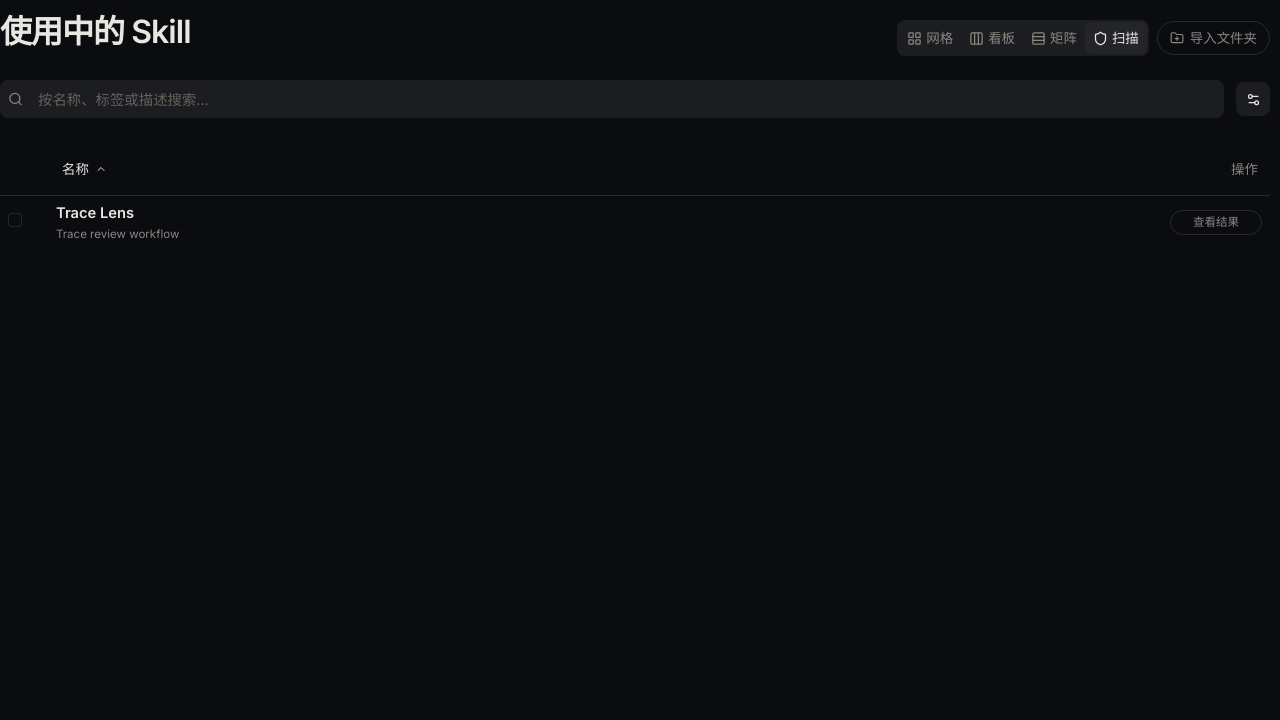
SkillsInUsePage › localizes the scan result modal chrome and report labels
The image size is (1280, 720).
Click the button with aria-label "查看 Trace Lens 的扫描结果" at (1216, 222), box top-left (1170, 210), bottom-right (1262, 235)
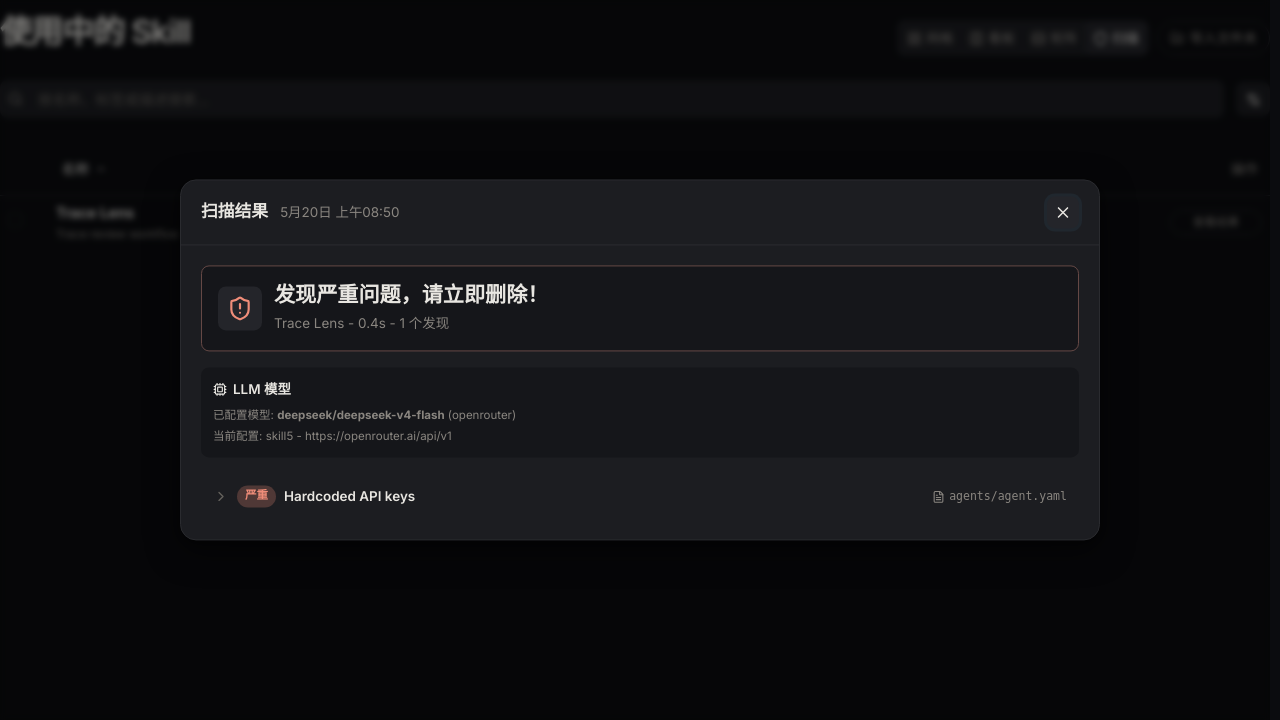
expect the element named "安全报告" is shown: met, box top-left (181, 245), bottom-right (1099, 540)
expect the heading "发现严重问题，请立即删除！" is shown: met, box top-left (274, 282), bottom-right (548, 308)
expect the text "Trace Lens - 0.4s - 1 个发现" is shown: met, box top-left (274, 316), bottom-right (449, 332)
Click the button "严重 Hardcoded API keys agents/agent.yaml" at (257, 497), box top-left (201, 474), bottom-right (1079, 520)
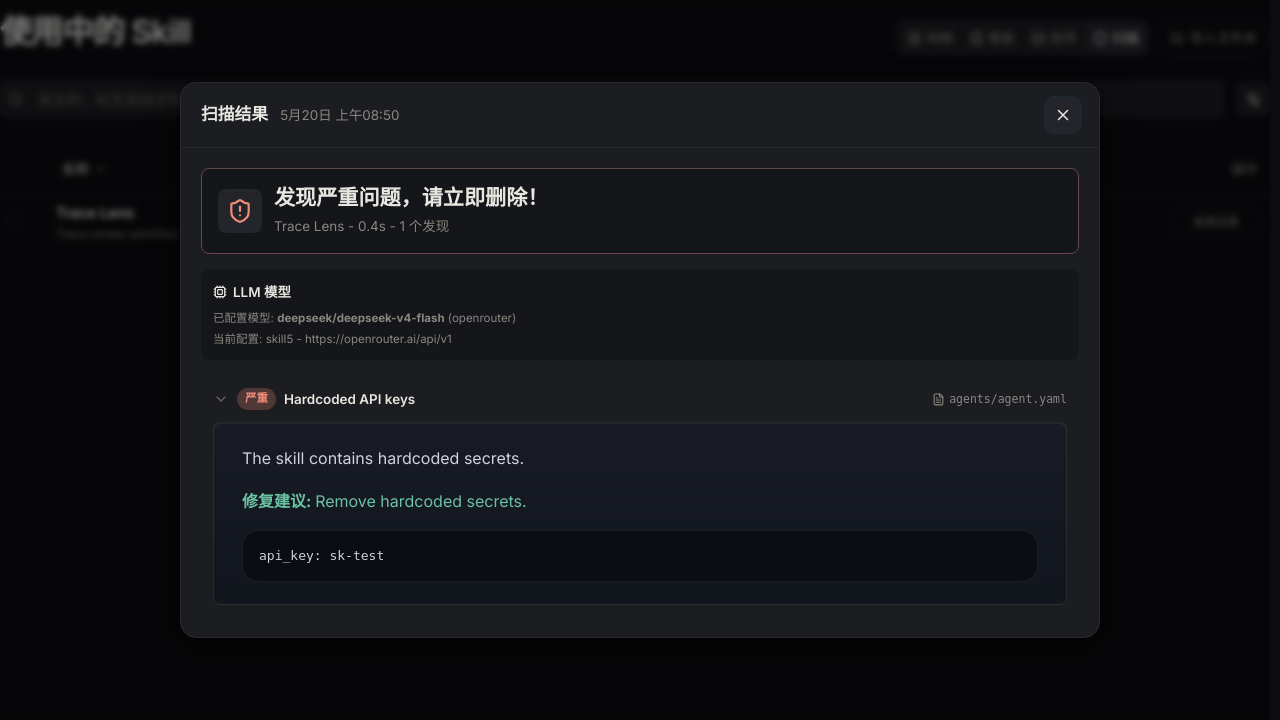
expect the text "修复建议:" is shown: met, box top-left (242, 490), bottom-right (315, 510)
